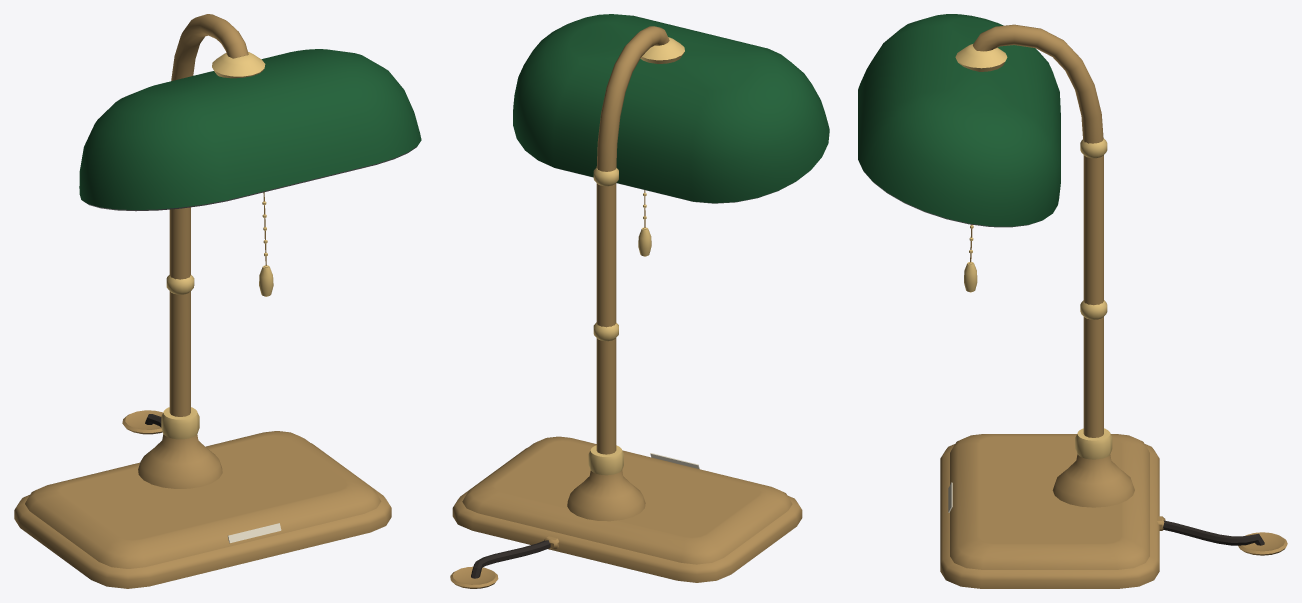
File: desk_lamp.glb
3 views of the same model, side by side, from view 1: azimuth 30°, elevation 25°; view 2: azimuth 150°, elevation 25°; view 3: azimuth 270°, elevation 25° (orthographic). The views are drawn at different scales.
Parts seen in each view (by area): view 1: desk_lamp_body, lamp_shade; view 2: desk_lamp_body, lamp_shade; view 3: desk_lamp_body, lamp_shade.
Boxes of the visible parts, <box> form: desk_lamp_body: <box>14,14,391,588</box>; lamp_shade: <box>79,49,421,211</box>; desk_lamp_body: <box>450,26,802,588</box>; lamp_shade: <box>513,14,829,203</box>; desk_lamp_body: <box>940,24,1287,588</box>; lamp_shade: <box>858,14,1060,227</box>.
Bounding box in the file's own units: 0.2552 × 0.4011 × 0.3134.
